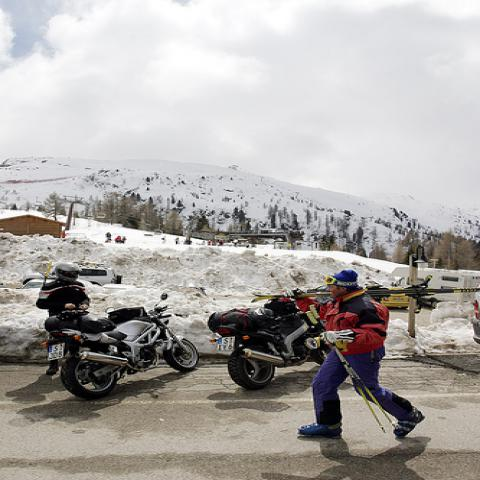car: (22, 265, 123, 287), (378, 296, 410, 310)
motorcycle: (43, 292, 201, 400), (205, 297, 328, 389)
